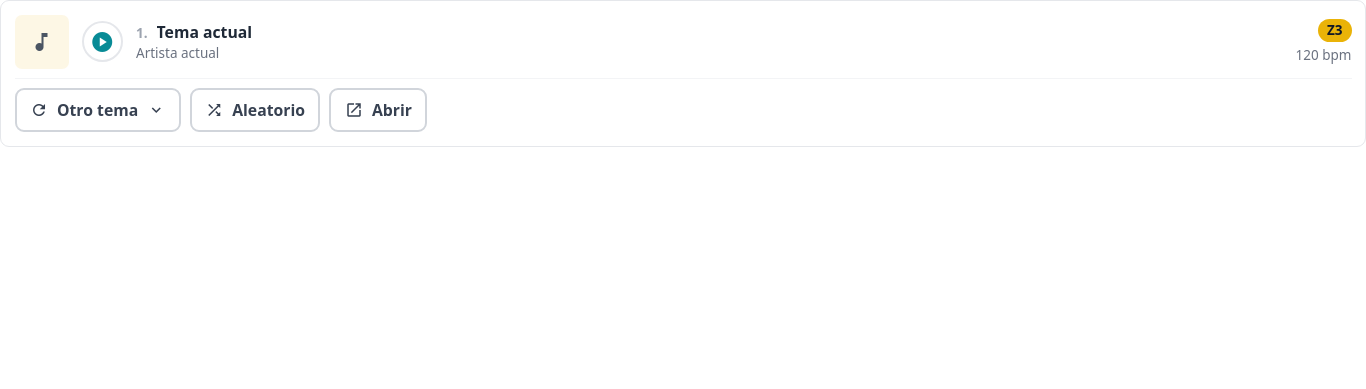
Test: PlaylistTrackRow > Otro tema marca las usadas › separador "Ya en tu lista" y badge con el tramo (usedAtIndex 4 → tramo 5)
This screenshot has width=1366, height=389.
Click the button with aria-label "Cambiar tema del tramo": (98, 110) [14, 88, 181, 132]
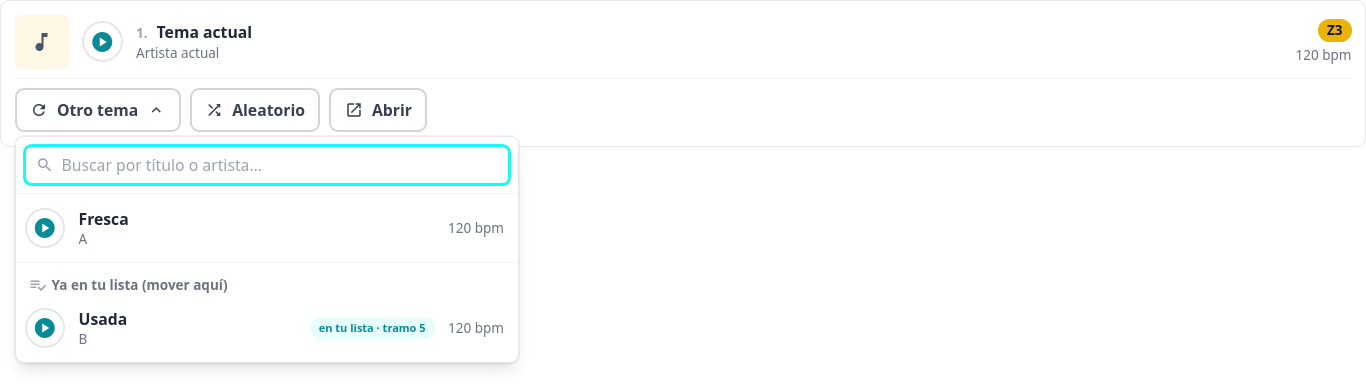
Now the text "Ya en tu lista (mover aquí)" is shown, box [29, 276, 228, 294]
Now the text "en tu lista · tramo 5" is shown, box [310, 317, 435, 339]
Now the number of options is 2, box [74, 198, 508, 257]; [74, 298, 508, 357]
